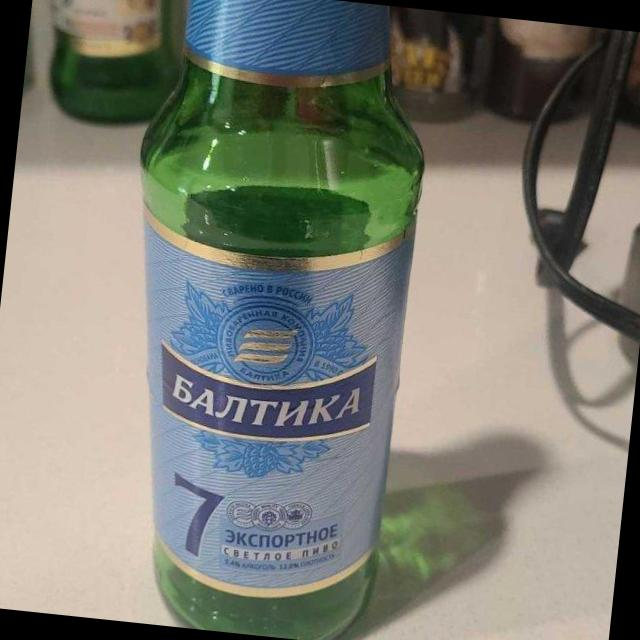BotolKaca: (89, 0, 442, 640)
